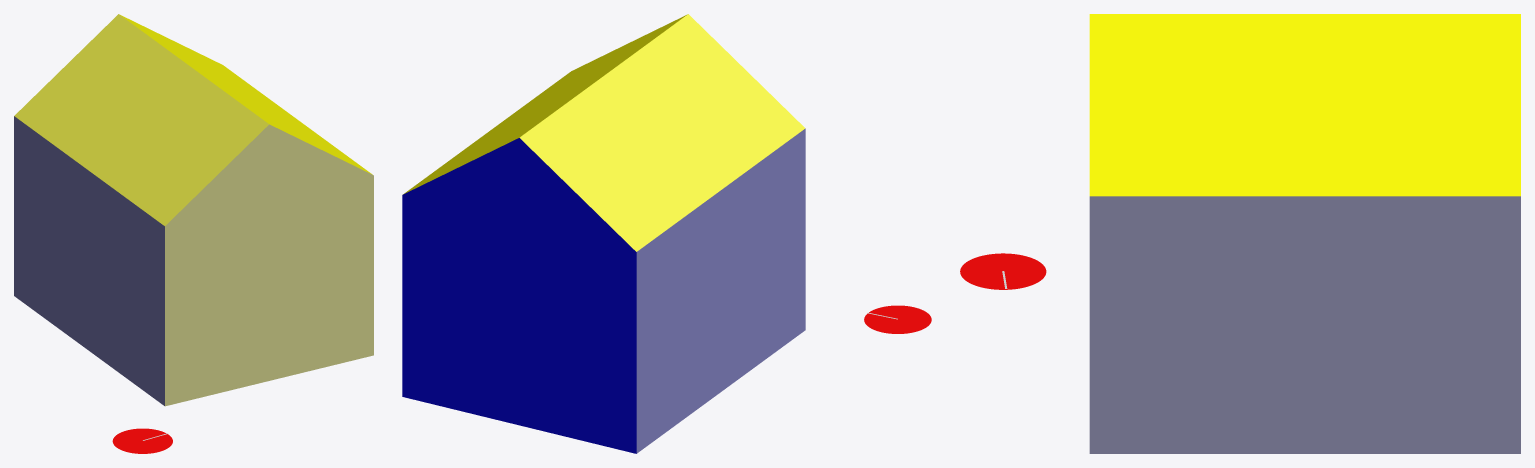
Rendered from result.glb.
3 renders of one model, left to right at view 1: azimuth 30°, elevation 25°; view 2: azimuth 150°, elevation 25°; view 3: azimuth 270°, elevation 25°, orthographic. The views are drawn at different scales.
Visible parts, largest first — view 1: b4dfba58-e275-48b8-9dd5-bbdf11ee7732__undefined, cfb633fe-d102-415e-ac38-6360330caa9e__undefined, a3b3fea5-a7b7-4b6b-8807-a9a6b8a0e50a__undefined, 8e2a8a36-e4ad-4b43-85ca-ce4b9231a4c1__undefined, 689acc61-d734-4d78-8c6b-2be143a20bd7__Circle; view 2: e08dd49b-62a8-493d-a765-d24ca8518def__undefined, cfb633fe-d102-415e-ac38-6360330caa9e__undefined, a3b3fea5-a7b7-4b6b-8807-a9a6b8a0e50a__undefined, 8e2a8a36-e4ad-4b43-85ca-ce4b9231a4c1__undefined, 689acc61-d734-4d78-8c6b-2be143a20bd7__Circle; view 3: ce070456-758c-498e-ac1a-400d9d284a8e__undefined, 8e2a8a36-e4ad-4b43-85ca-ce4b9231a4c1__undefined, 689acc61-d734-4d78-8c6b-2be143a20bd7__Circle.
Part boxes in pixels (x1=…): b4dfba58-e275-48b8-9dd5-bbdf11ee7732__undefined: x1=165, y1=124, x2=373, y2=406; cfb633fe-d102-415e-ac38-6360330caa9e__undefined: x1=14, y1=116, x2=164, y2=405; a3b3fea5-a7b7-4b6b-8807-a9a6b8a0e50a__undefined: x1=14, y1=14, x2=268, y2=225; 8e2a8a36-e4ad-4b43-85ca-ce4b9231a4c1__undefined: x1=119, y1=14, x2=372, y2=174; 689acc61-d734-4d78-8c6b-2be143a20bd7__Circle: x1=112, y1=428, x2=172, y2=453; e08dd49b-62a8-493d-a765-d24ca8518def__undefined: x1=402, y1=138, x2=636, y2=453; cfb633fe-d102-415e-ac38-6360330caa9e__undefined: x1=636, y1=128, x2=805, y2=453; a3b3fea5-a7b7-4b6b-8807-a9a6b8a0e50a__undefined: x1=519, y1=14, x2=805, y2=251; 8e2a8a36-e4ad-4b43-85ca-ce4b9231a4c1__undefined: x1=403, y1=14, x2=687, y2=194; 689acc61-d734-4d78-8c6b-2be143a20bd7__Circle: x1=864, y1=305, x2=931, y2=333; ce070456-758c-498e-ac1a-400d9d284a8e__undefined: x1=1089, y1=196, x2=1520, y2=453; 8e2a8a36-e4ad-4b43-85ca-ce4b9231a4c1__undefined: x1=1089, y1=14, x2=1520, y2=196; 689acc61-d734-4d78-8c6b-2be143a20bd7__Circle: x1=960, y1=253, x2=1046, y2=289.
Bounding box in the file's own units: 550 × 469 × 650.
